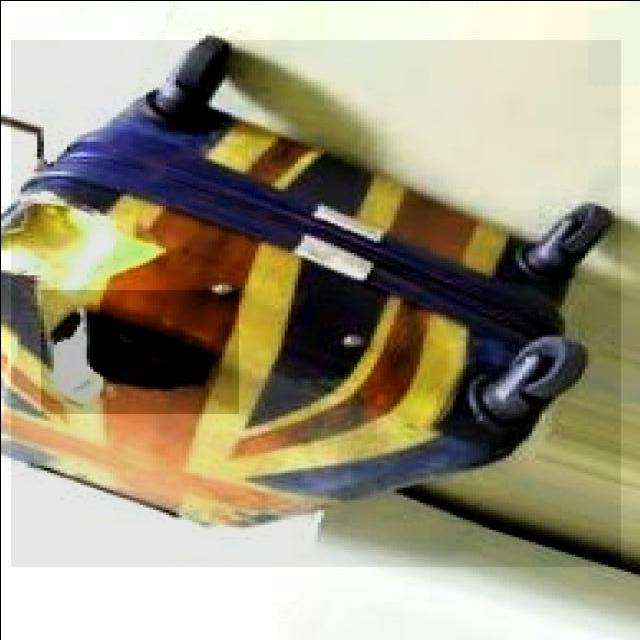Damage-bag: (2, 195, 212, 402)
